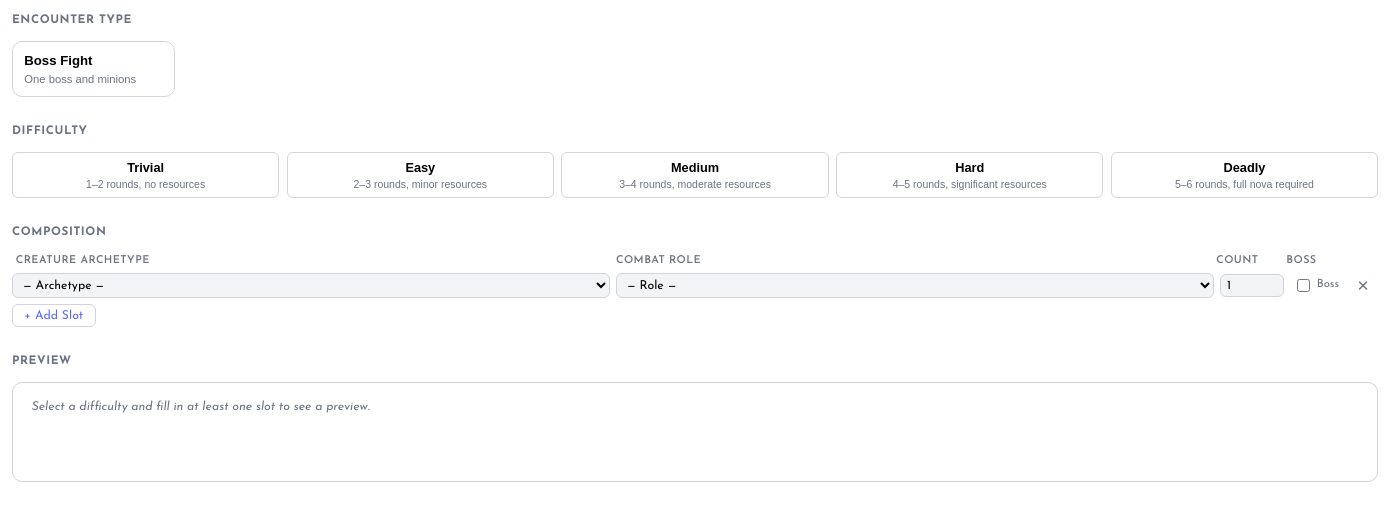
Test: selecting a template card loads its slots
Note: Wait for template card to appear
Step 1. Click the button "Boss Fight One boss and minions" → [93, 69], box [12, 41, 175, 97]
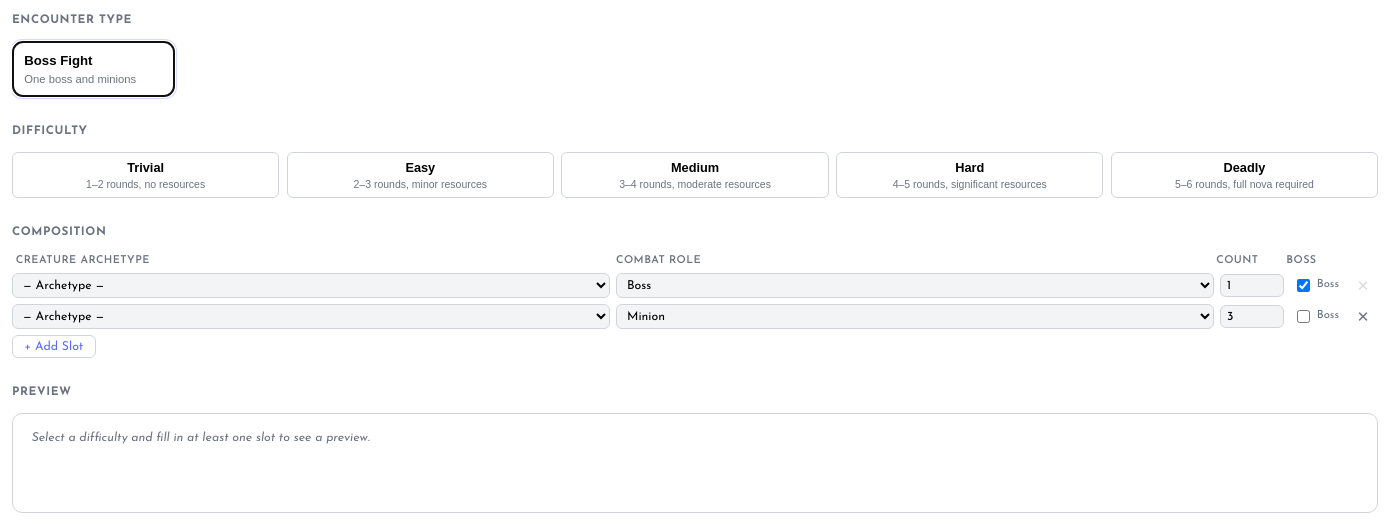
Check: the number of elements with test id "slot-row" is 2, box [12, 273, 1378, 298]; [12, 304, 1378, 329]
